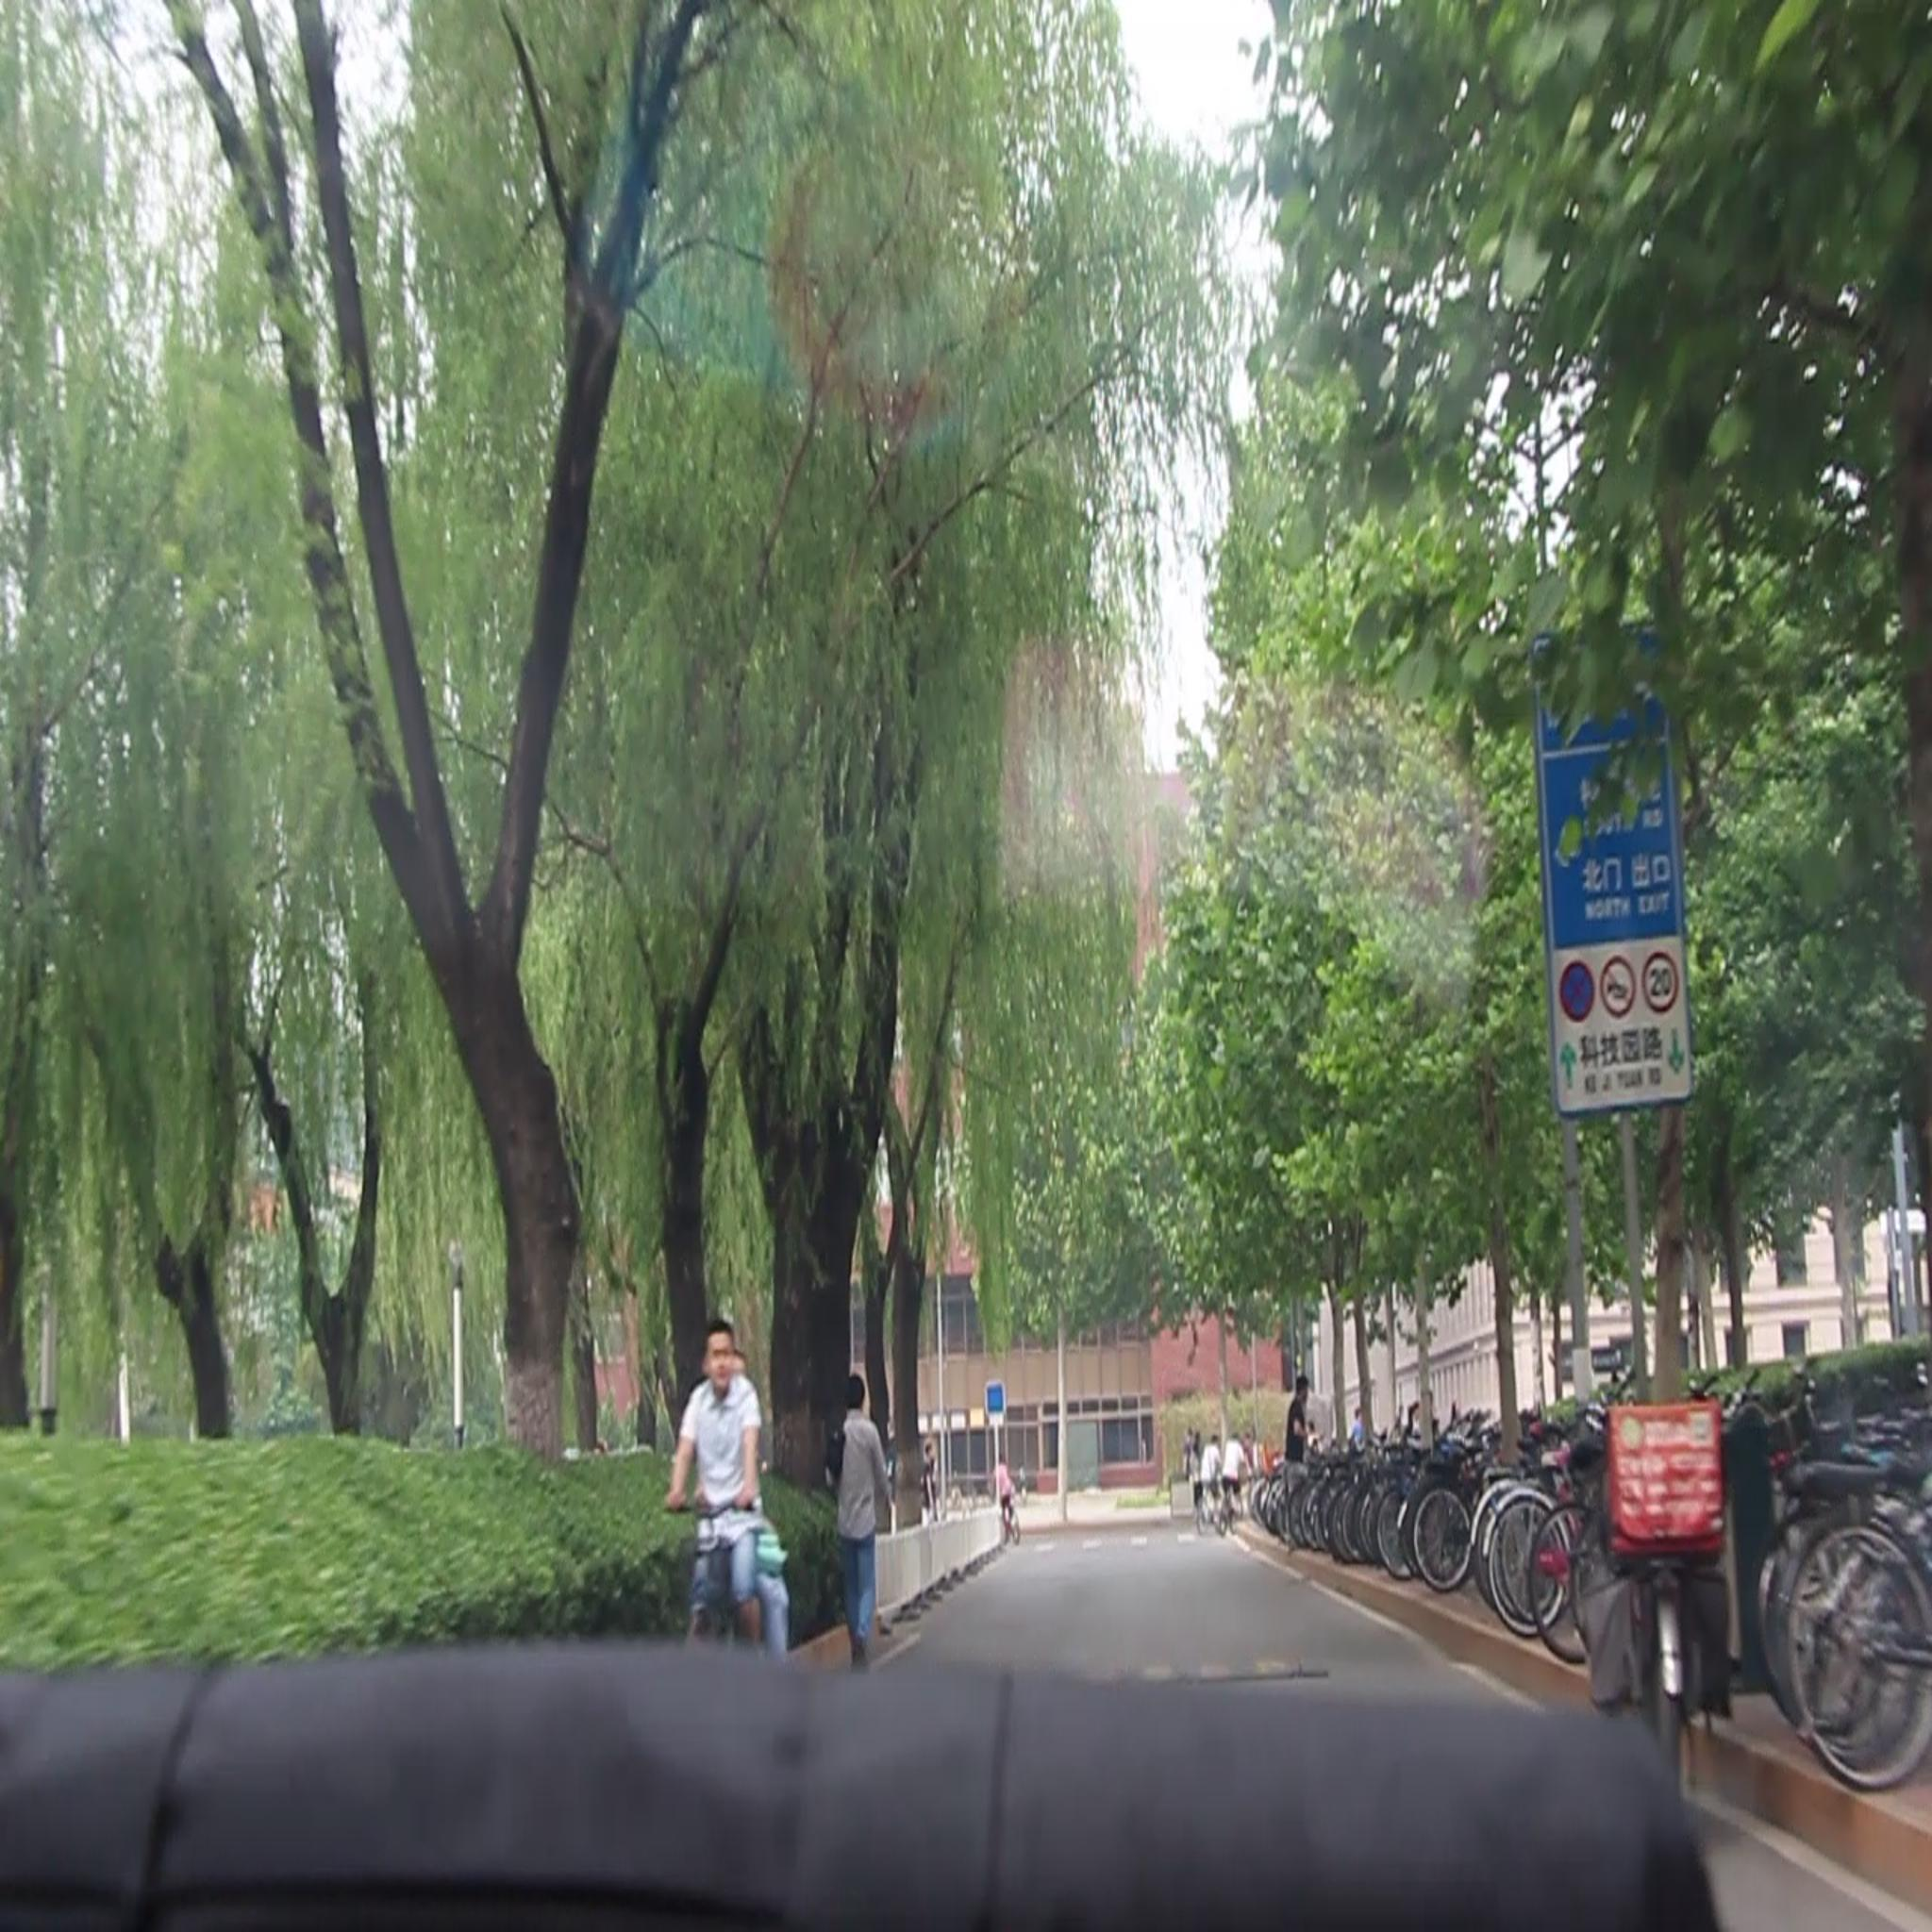p11: (1603, 955, 1637, 1016)
pl20: (1642, 950, 1681, 1016)
pn: (1559, 957, 1596, 1021)
